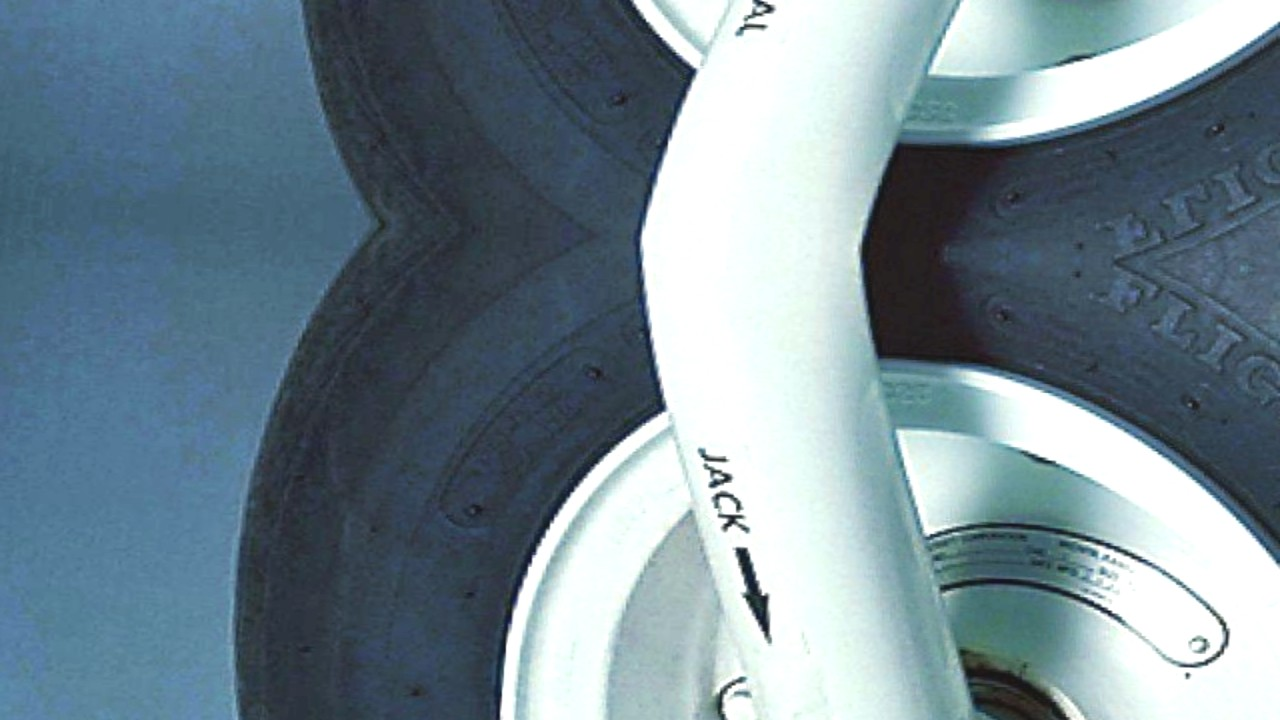wheel: (135, 220, 1280, 720)
